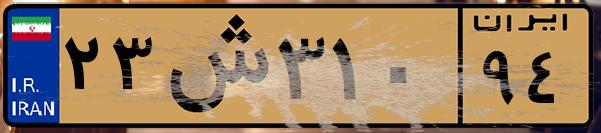0: (385, 28, 445, 110)
1: (330, 28, 385, 110)
2: (57, 26, 110, 100)
3: (270, 28, 330, 110), (110, 28, 158, 98)
4: (525, 38, 570, 115)
9: (475, 38, 525, 113)
ش: (158, 12, 270, 120)
